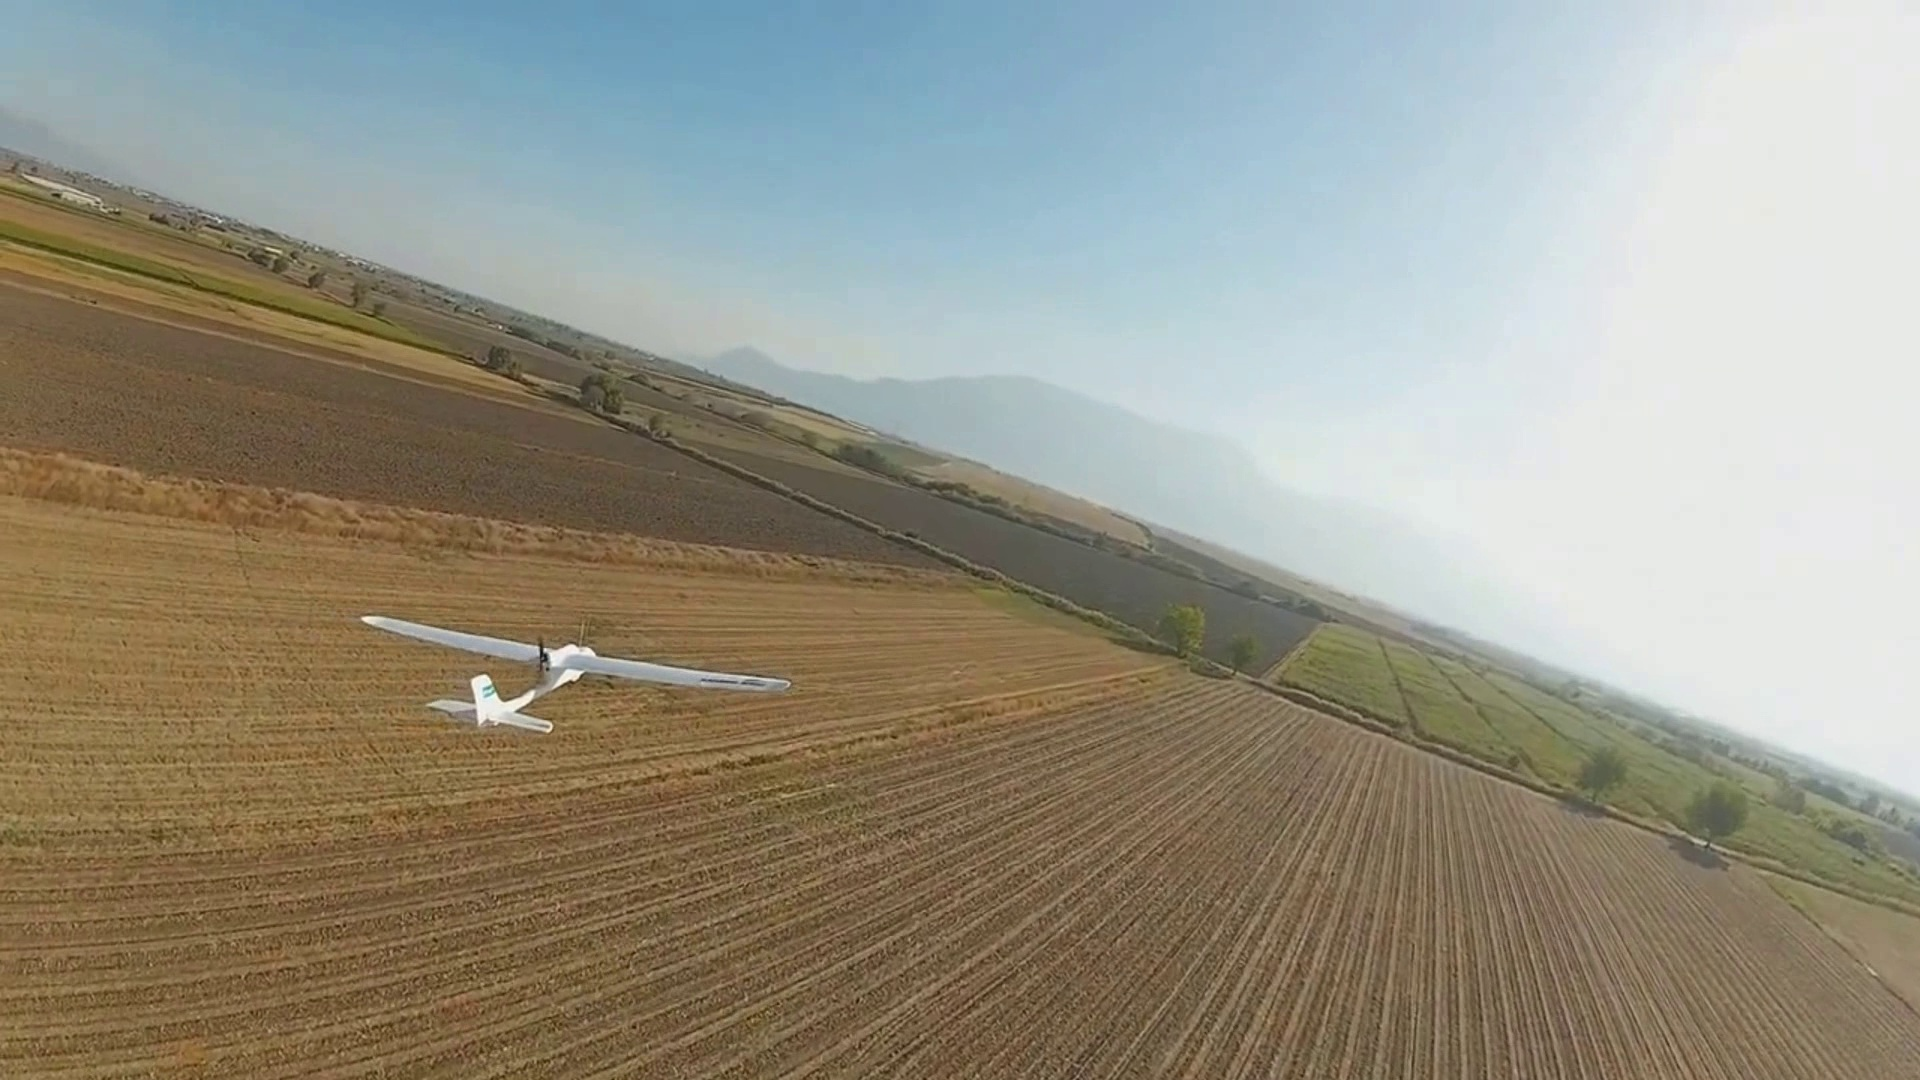airplane: (357, 617, 790, 733)
